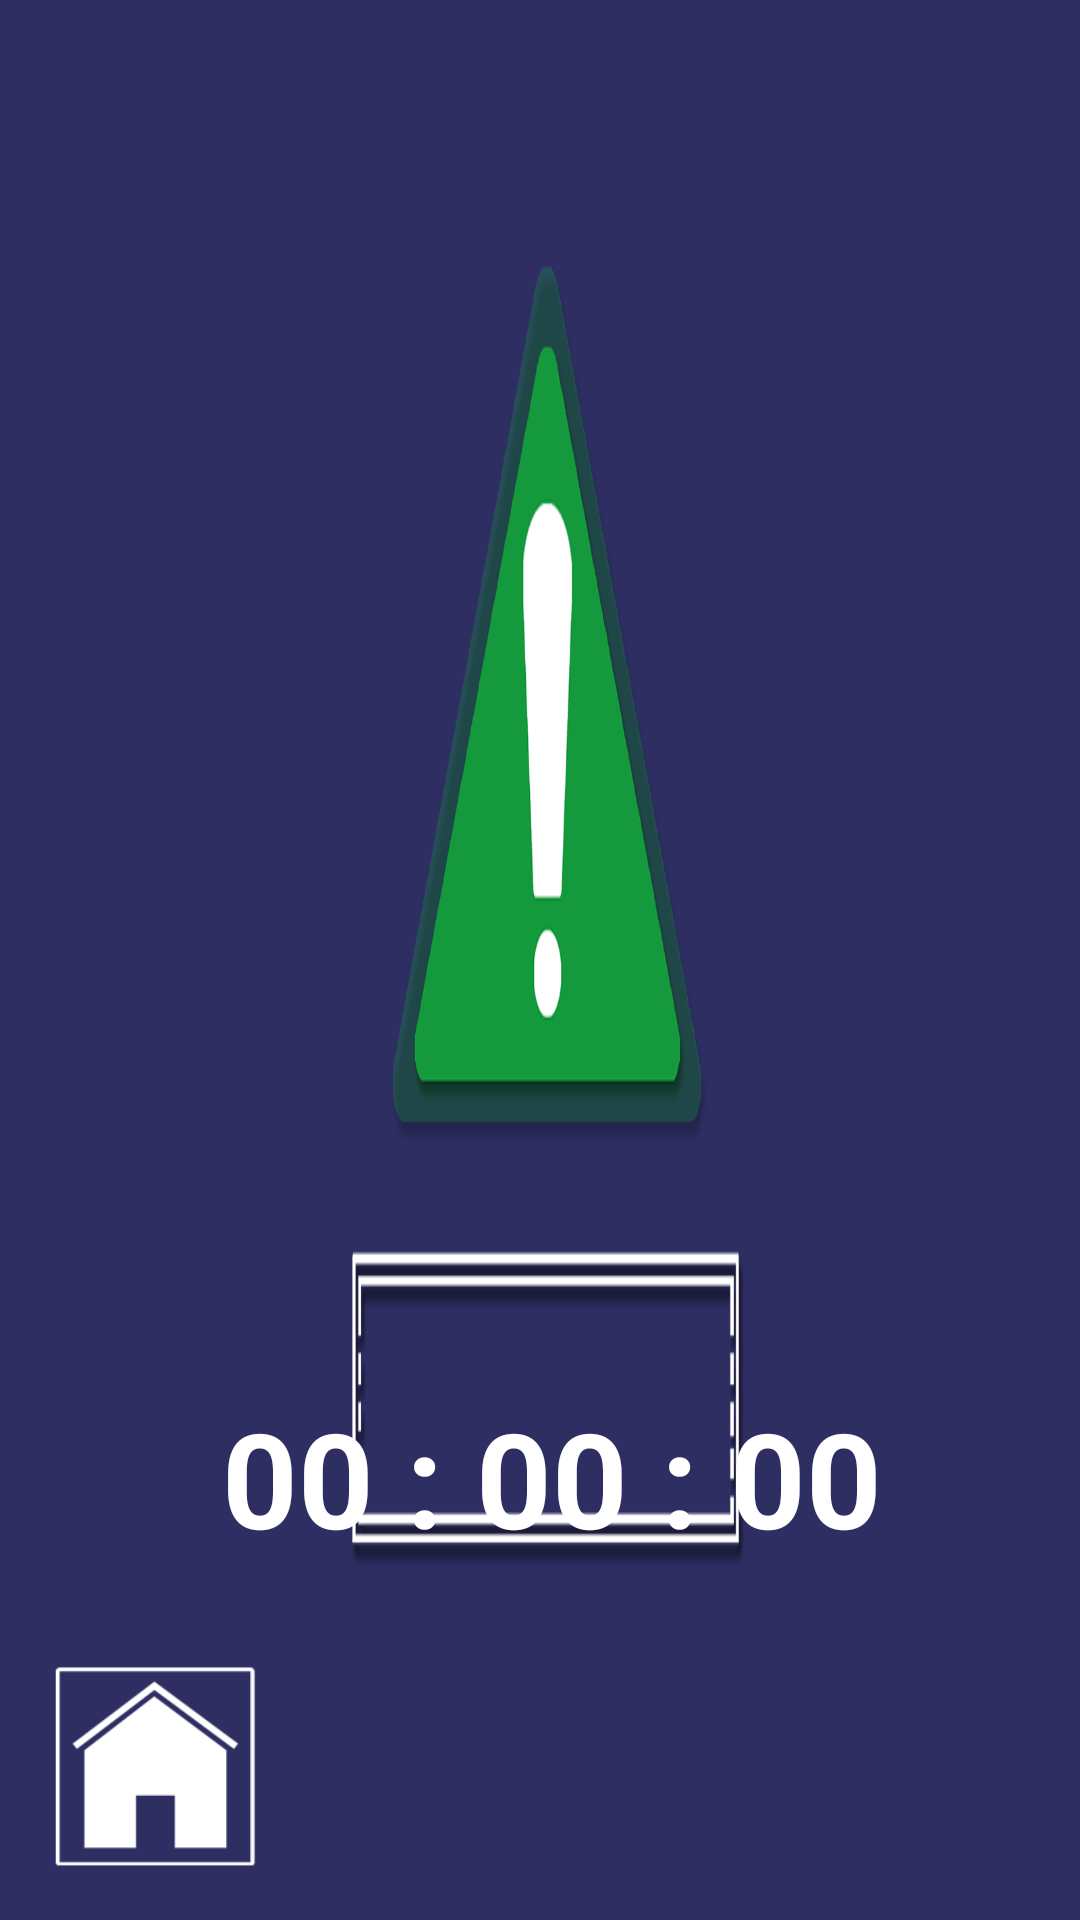

Point at icon controls on the screen. Image size 1080px×1920px, points as point (x, y).
home: point (155, 1766)
